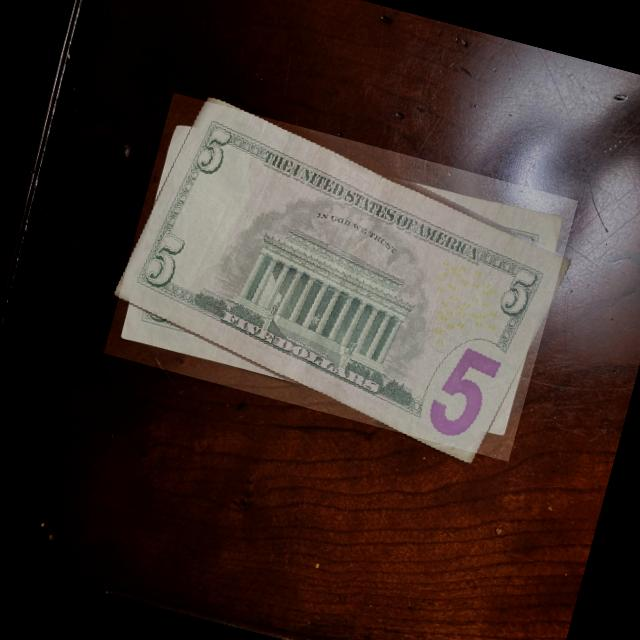five: (103, 93, 578, 462)
